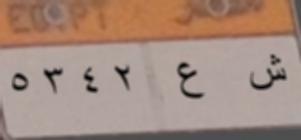2: (111, 62, 137, 96)
3: (43, 63, 68, 97)
4: (74, 64, 102, 100)
5: (9, 70, 32, 101)
ain: (174, 57, 208, 105)
sheen: (249, 51, 286, 98)
